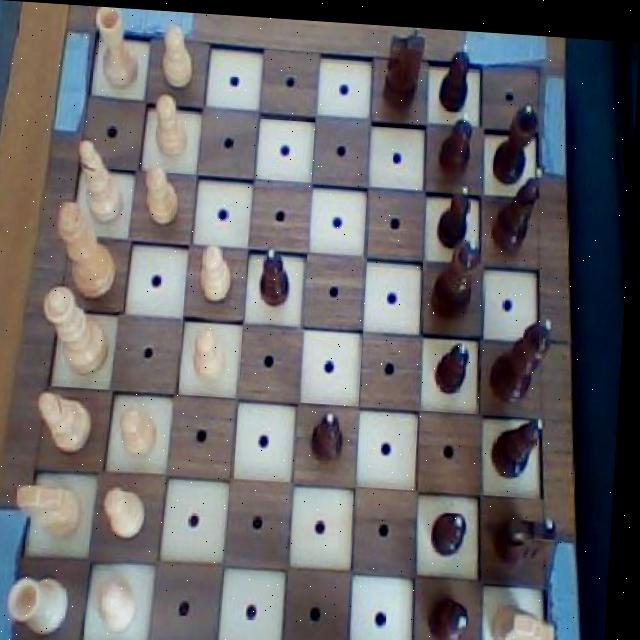bishop: (489, 151, 550, 248), (493, 404, 552, 475)
black-bishop: (490, 305, 562, 406)
black-king: (495, 495, 566, 567), (377, 20, 432, 110)
black-knight: (431, 171, 480, 249), (433, 31, 481, 109), (429, 328, 481, 394), (431, 493, 480, 559), (309, 399, 355, 466), (436, 102, 476, 177), (429, 583, 481, 640), (257, 240, 296, 307)
black-pawn: (428, 229, 488, 323)
black-queen: (489, 92, 545, 179)
black-rook: (74, 132, 132, 226), (36, 387, 102, 460)
white-bishop: (55, 194, 128, 302)
white-king: (15, 471, 90, 547), (491, 590, 574, 640)
white-knight: (158, 14, 203, 90), (95, 570, 148, 634), (106, 479, 157, 542), (151, 85, 193, 160), (189, 318, 236, 385), (119, 401, 166, 464), (142, 160, 185, 228), (200, 237, 242, 305)
white-pawn: (41, 282, 120, 380)
white-queen: (9, 567, 83, 640), (89, 5, 145, 89)
